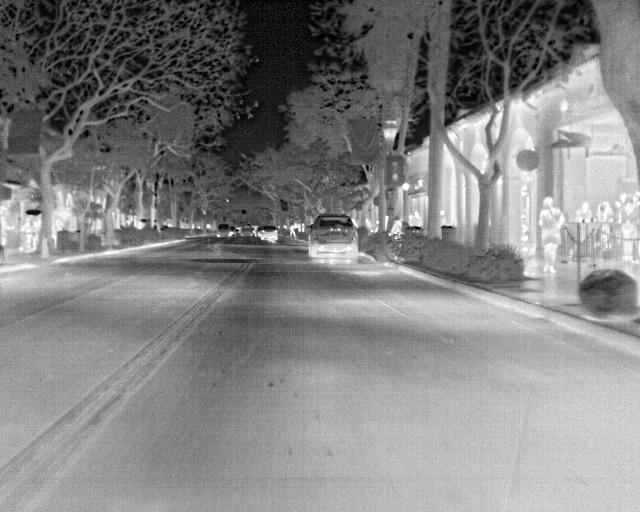bicycle: (306, 213, 360, 259), (258, 225, 280, 241), (217, 224, 233, 240), (238, 225, 256, 239)
empty: (538, 198, 566, 273), (572, 201, 592, 222), (593, 201, 612, 221), (388, 216, 404, 237)
